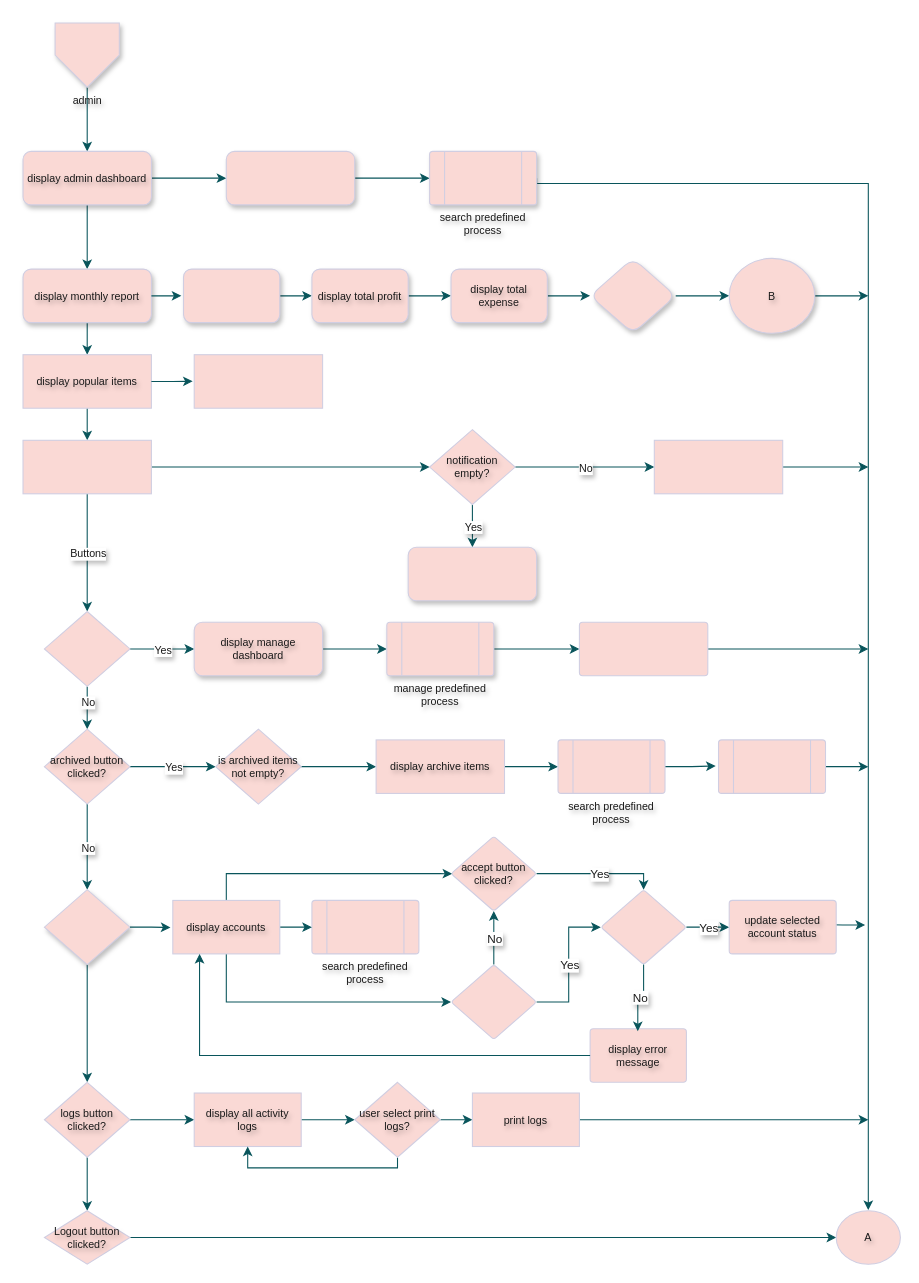
Some shapes in this 919 by 1283 pixel diagram are drawn without their labels. The centre of each missing label's shape, as x and y in pixels:
"accounts button clicked?" goes at point (87, 928).
"decline button clicked?" goes at point (493, 1002).
"display empty notification" goes at point (473, 575).
"display less popular items" goes at point (258, 381).
"display notification" goes at point (718, 466).
"display stock levels" goes at point (291, 179).
"display total item sold" goes at point (232, 297).
"generate logs" goes at point (643, 648).
"manage button clicked?" goes at point (86, 648).
"notification" goes at point (86, 466).
"restore & discontinue predefined process" goes at point (771, 766).
"user already select item?" goes at point (643, 927).
"view more button clicked?" goes at point (633, 297).
